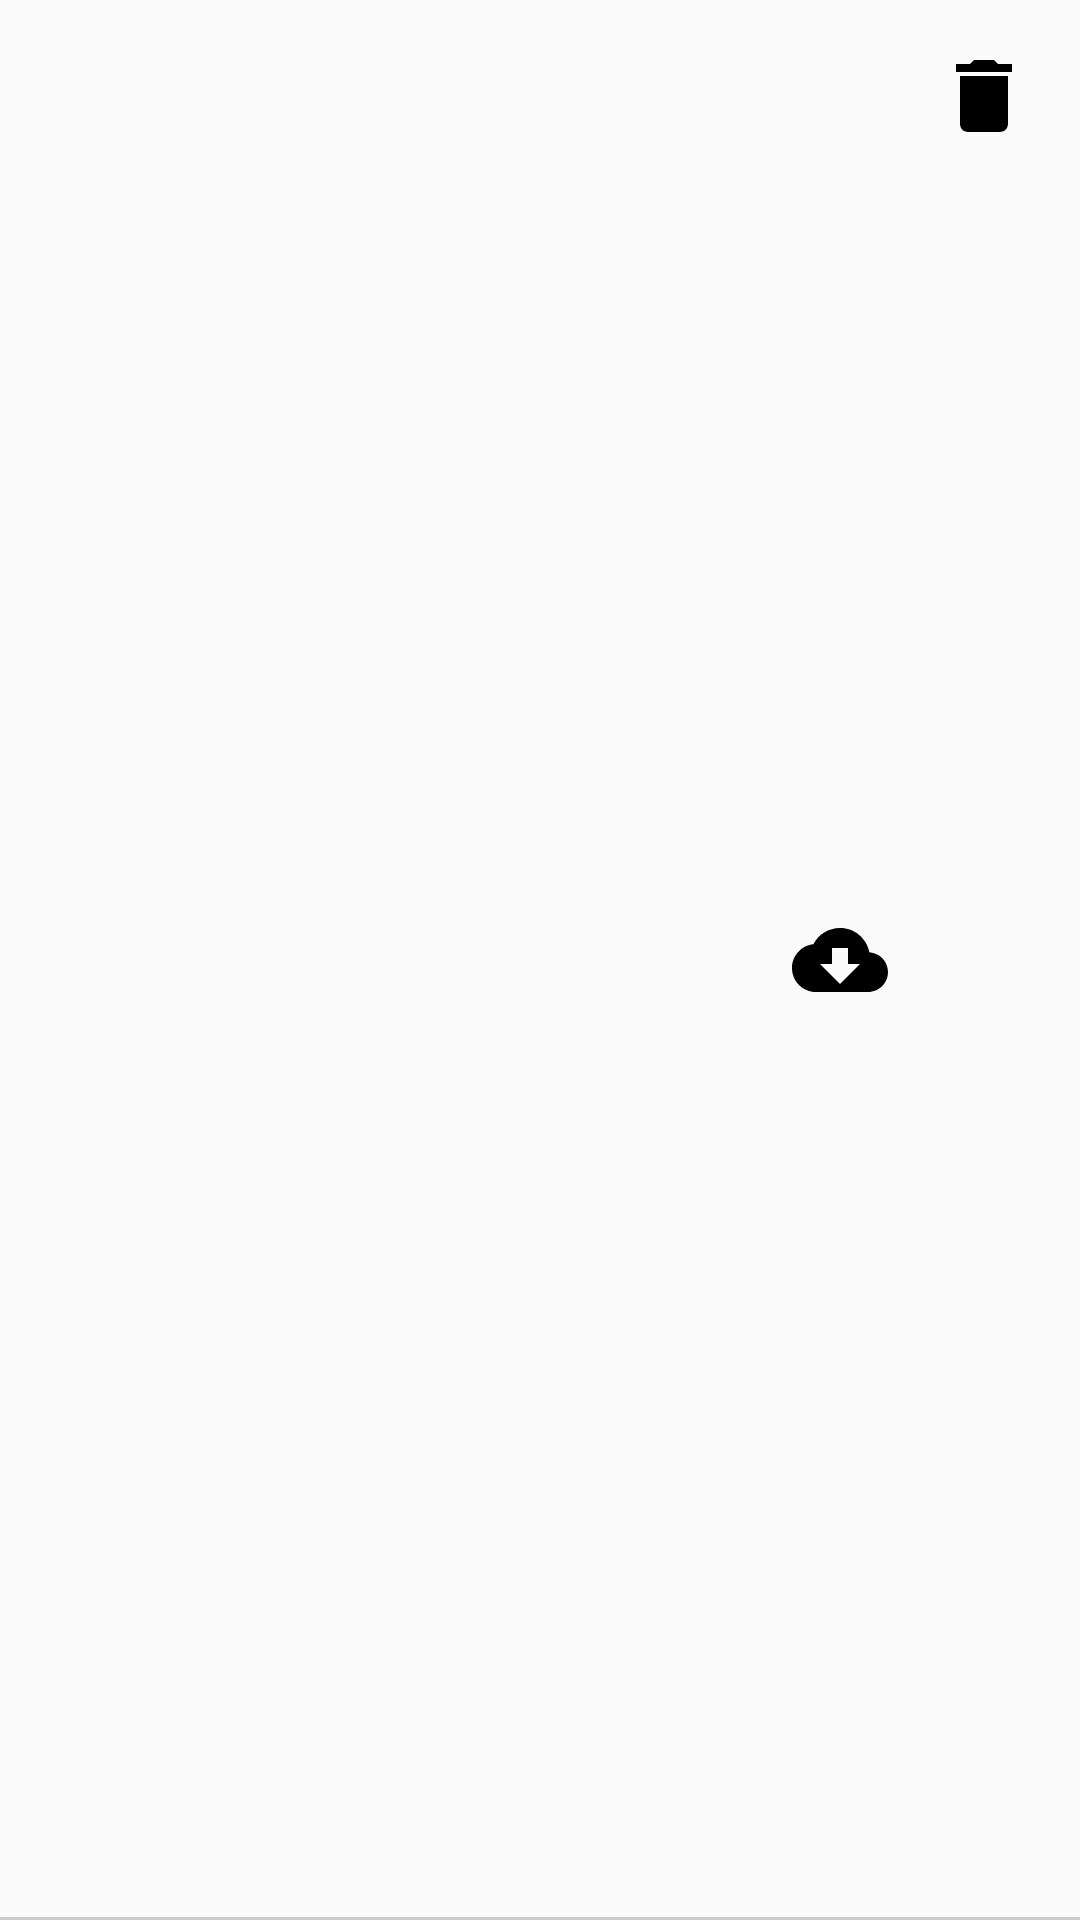

Icon click points for this 1080 x 1920 phone screenshot, format point (x, y):
delete: point (984, 96)
